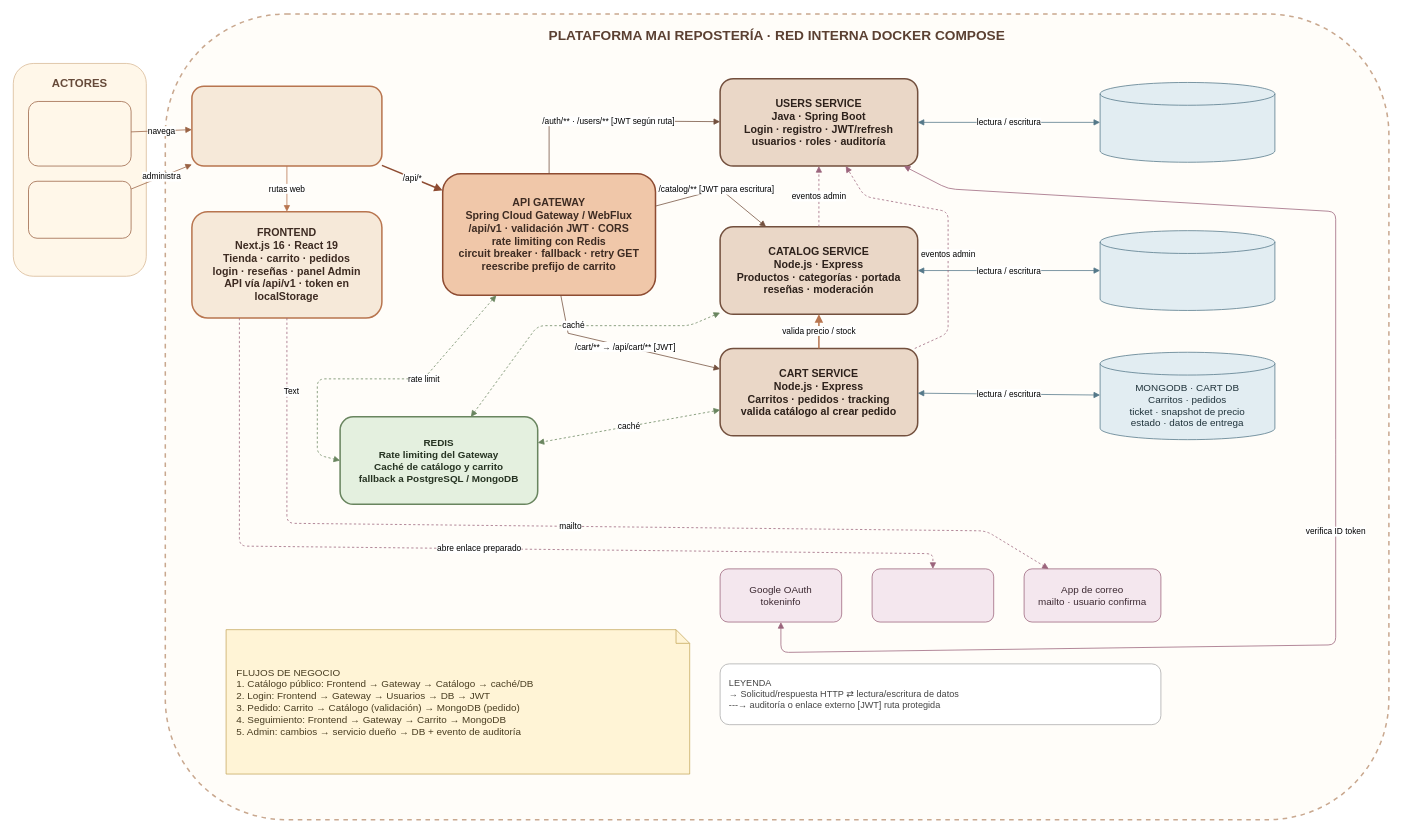
This 1403x833 diagram has some shape labels left out. The centre of each missing label's shape, as x and y in pixels:
Administrador Productos · pedidos reseñas · portada: the point at 79,209
CADDY Proxy inverso HTTP 80 · HTTPS 443 · ACME /api/* → Gateway · web → Frontend: the point at 286,125
Cliente Explora · compra consulta pedidos publica reseñas: the point at 79,133
POSTGRESQL · CATALOG DB Productos · categorías portada · reseñas: the point at 1187,270
POSTGRESQL · USERS DB Usuarios · roles refresh tokens · auditoría: the point at 1187,122
WhatsApp wa.me · usuario envía: the point at 932,595
